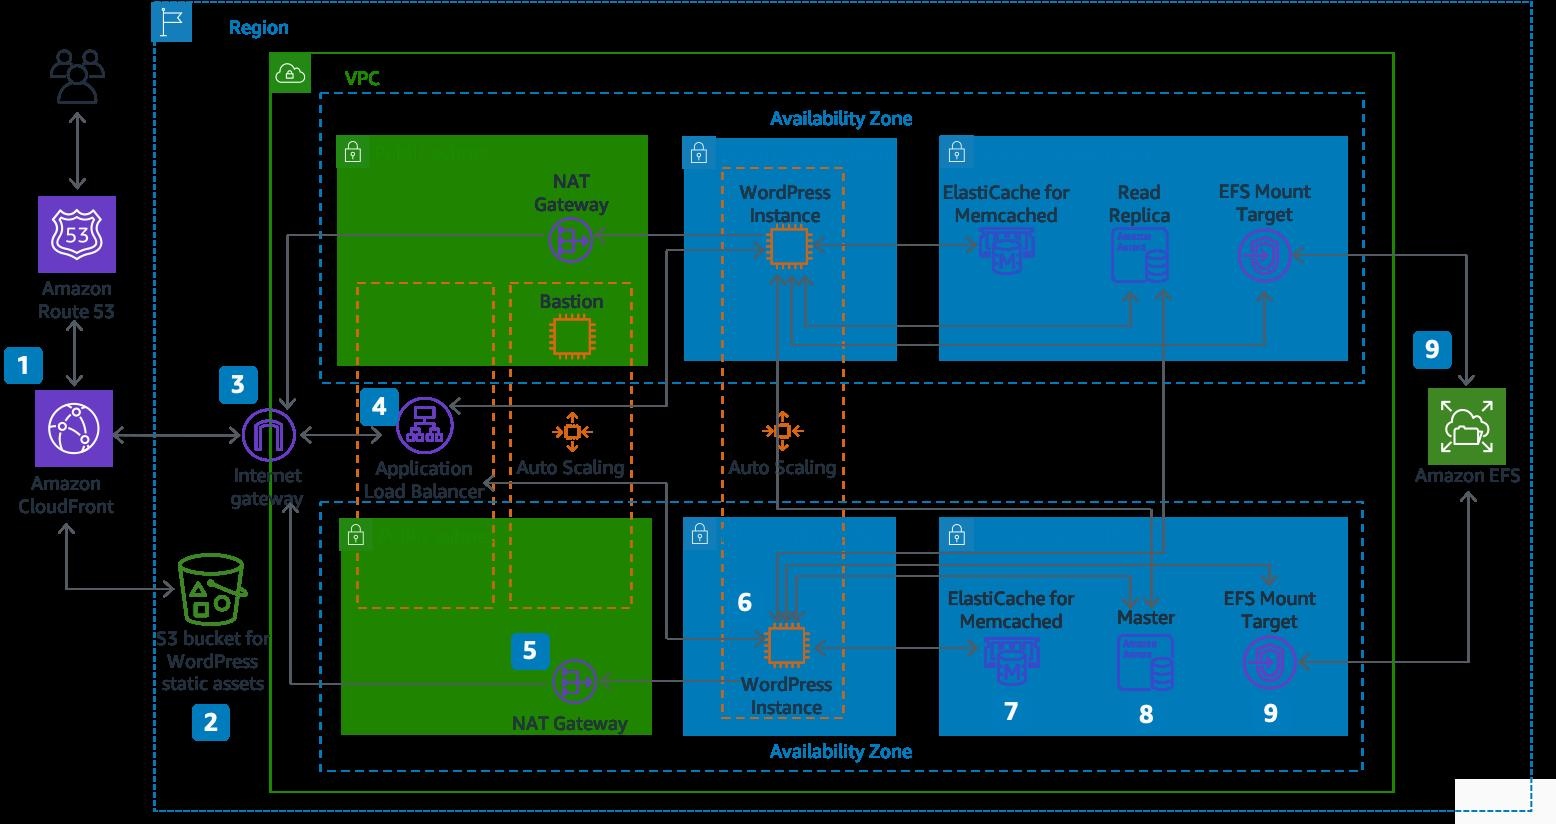ALB: (391, 389, 461, 454)
Aurora: (1107, 624, 1186, 695), (1107, 224, 1173, 290)
Auto Scaling: (542, 401, 605, 456), (754, 401, 811, 455)
Cloudfront: (34, 383, 113, 471)
EC2: (759, 218, 820, 272), (544, 308, 603, 362), (766, 614, 818, 670)
EFS: (1426, 384, 1513, 469)
EFS Mount Target: (1235, 631, 1301, 695), (1232, 226, 1296, 286)
ElastiCache: (972, 222, 1045, 277), (978, 633, 1049, 690)
Internet Gateway: (234, 404, 304, 465)
NAT Gateway: (542, 214, 603, 266), (547, 653, 598, 708)
Private Subnet: (679, 128, 725, 179), (936, 124, 978, 178), (934, 506, 981, 554), (681, 514, 724, 556)
Public Subnet: (329, 128, 375, 179), (334, 511, 378, 556)
Region: (147, 0, 203, 50)
Route53: (29, 189, 123, 278)
S3: (174, 539, 255, 632)
Users: (37, 38, 115, 111)
